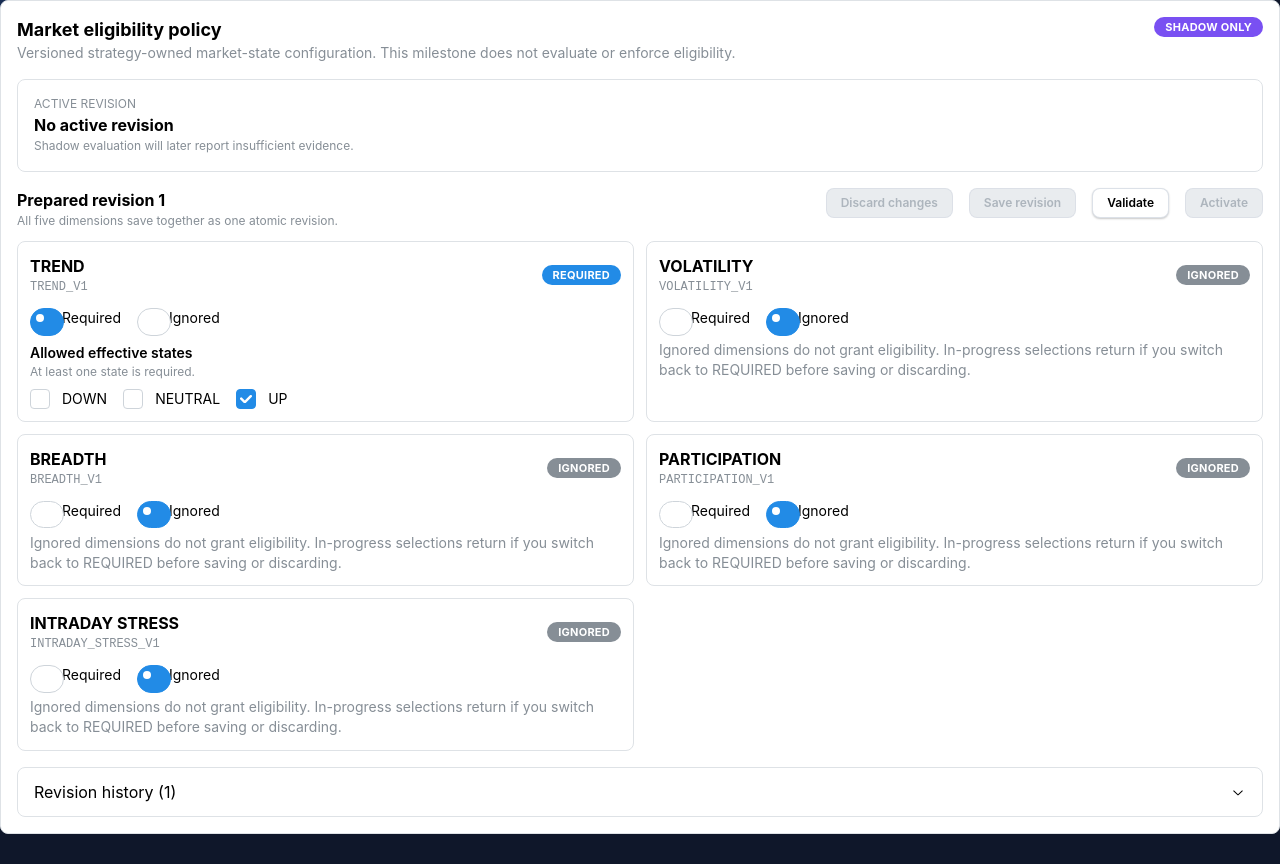
Test case: StrategyMarketPolicyPanel › edits multiple dimensions and saves the complete revision once
Click the 2nd radio button labelled "Required" at (676, 322), box [659,308,693,336]
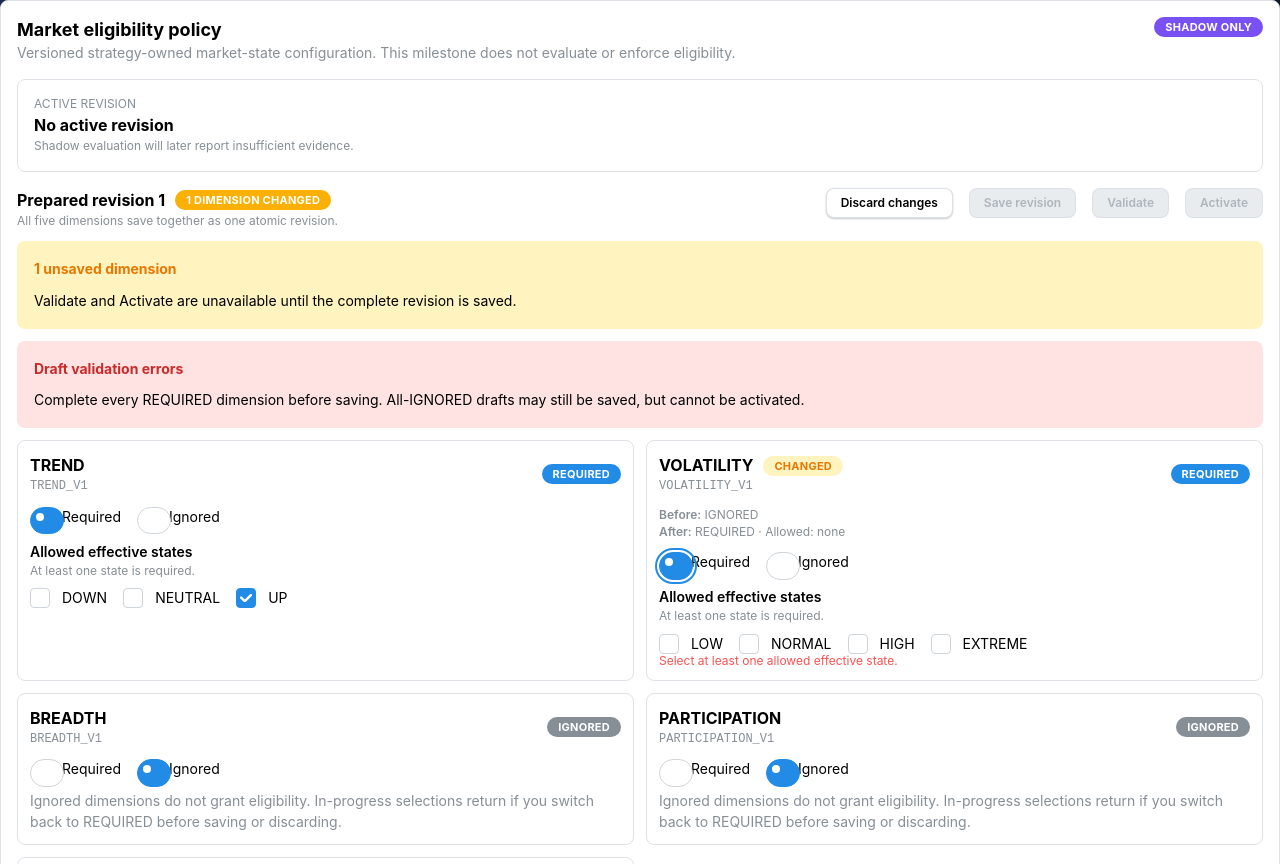
Click the checkbox labelled "EXTREME" at (940, 644), box [930,634,950,654]
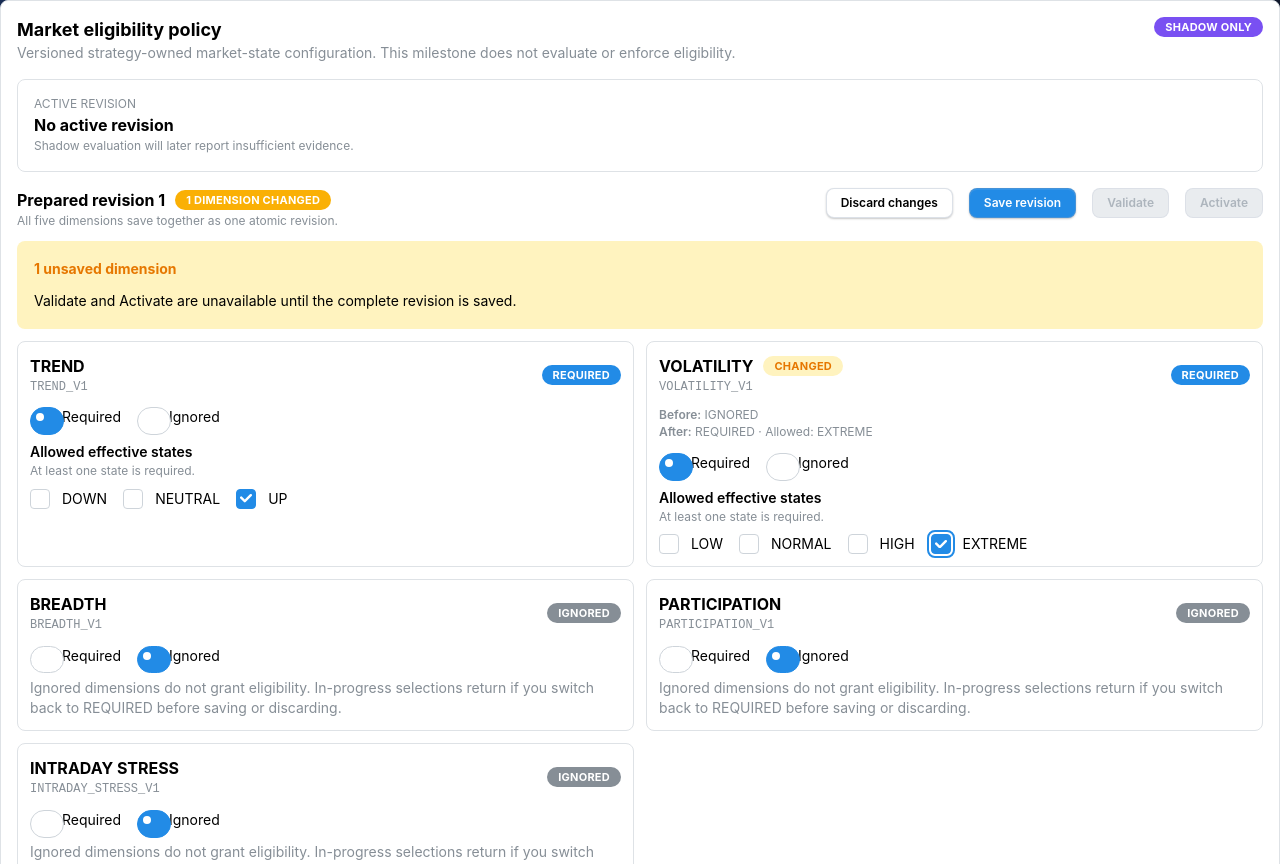
Click the checkbox labelled "DOWN" at (40, 498), box [30,488,50,508]
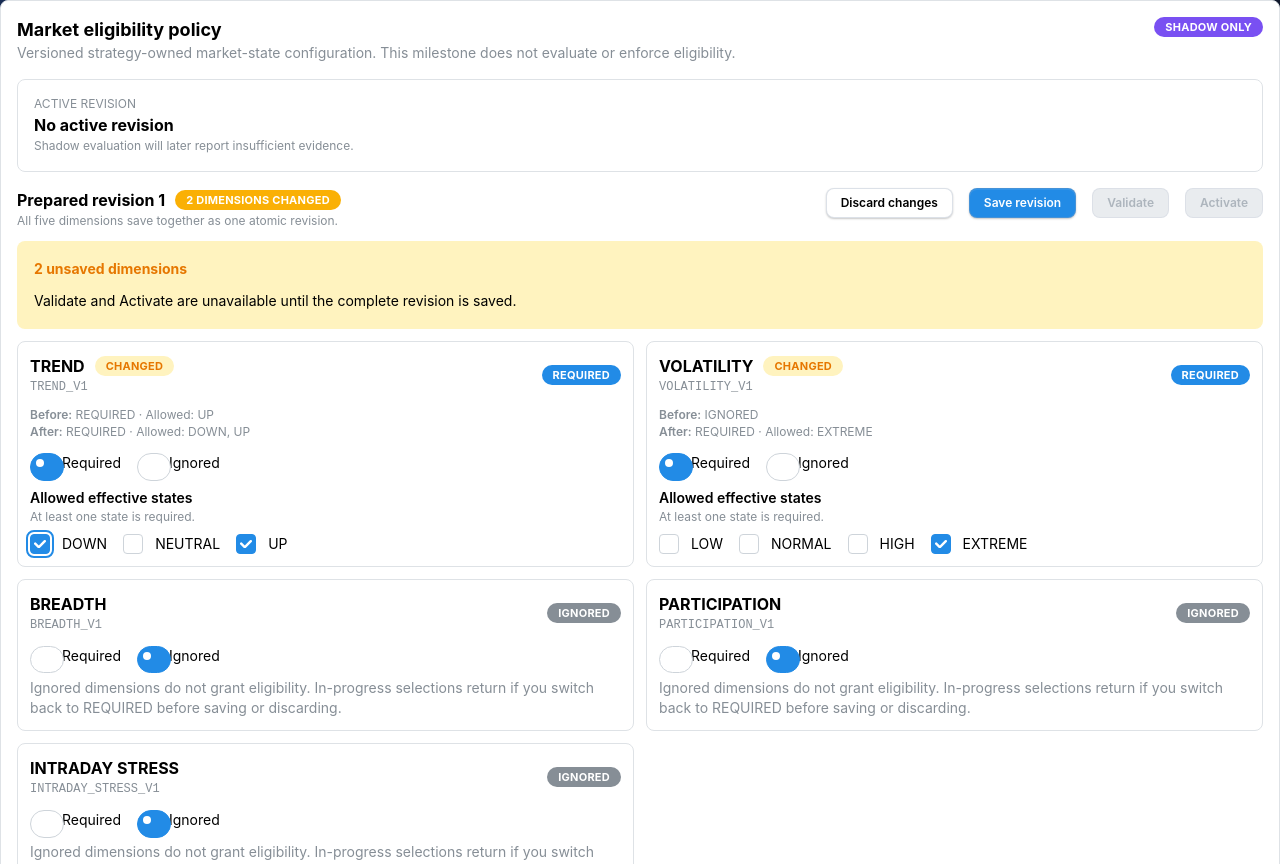
expect the text "2 dimensions changed" is shown: met, box [186,191,330,209]
Click the button "Save revision" at (1022, 203), box [969,188,1076,218]
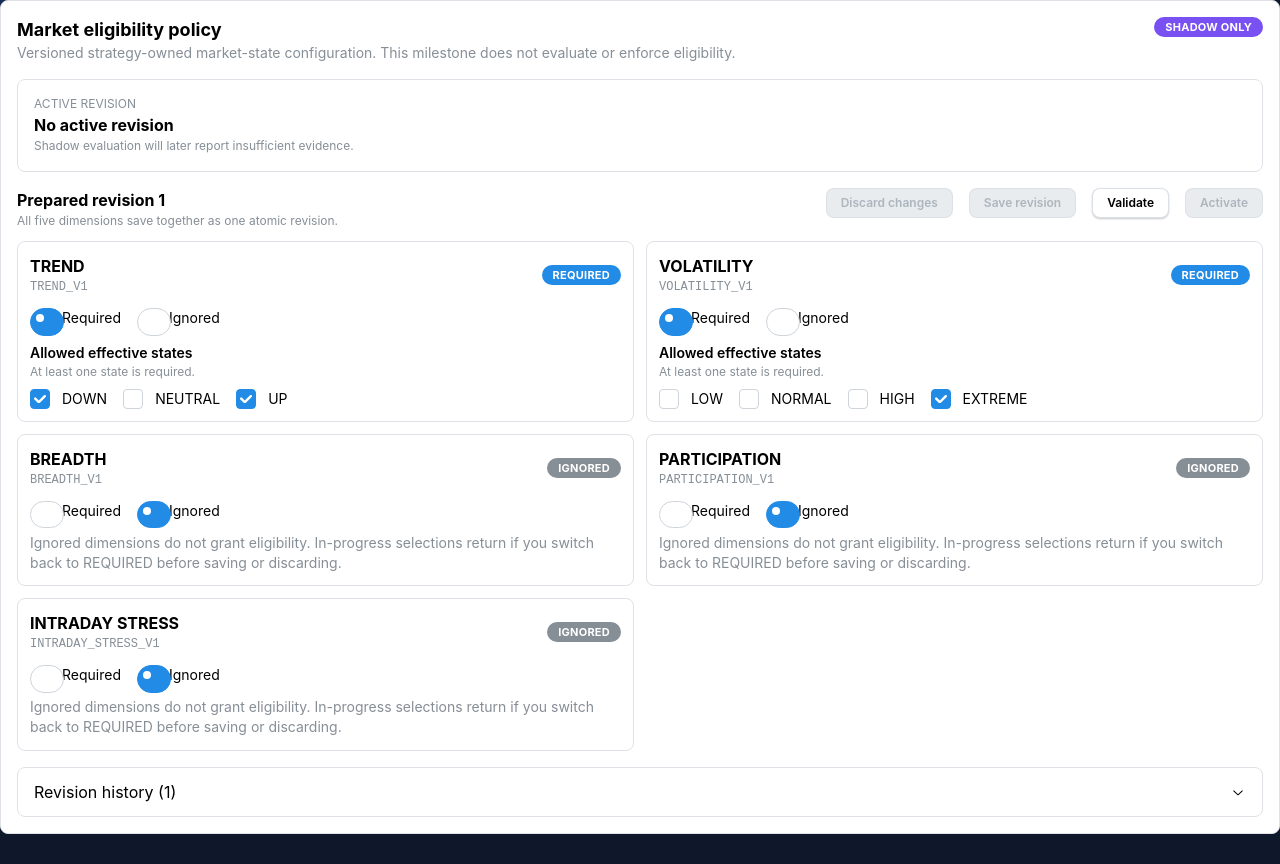
expect the text "2 dimensions changed" is gone: met
expect the button "Save revision" is disabled: met, box [969,188,1076,218]
